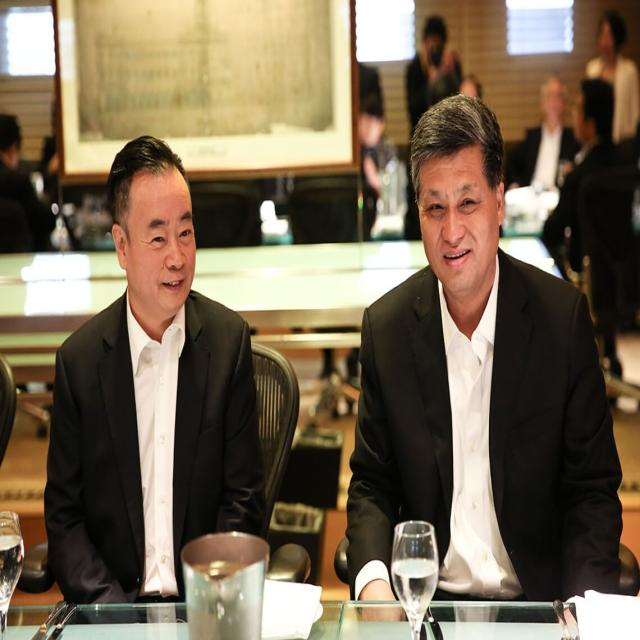body: (341, 91, 627, 639), (40, 128, 274, 639), (540, 76, 636, 406), (506, 70, 584, 192), (354, 52, 394, 242), (0, 111, 61, 235), (585, 9, 639, 144), (404, 15, 464, 132), (317, 326, 360, 421), (40, 132, 62, 226), (456, 68, 482, 95)
